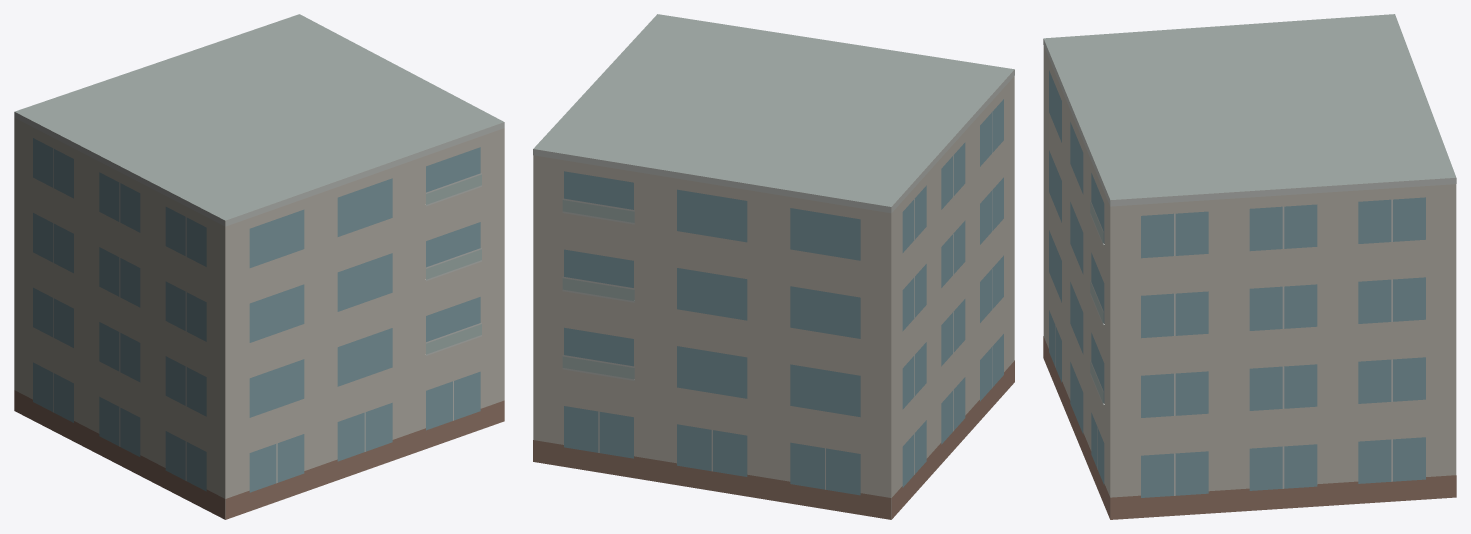
The model's file is survey-upis-32527058.glb.
The picture shows the model from 3 angles, left to right: view 1: azimuth 30°, elevation 25°; view 2: azimuth 150°, elevation 25°; view 3: azimuth 270°, elevation 25°; orthographic projection. The views are drawn at different scales.
Visible parts, largest first — view 1: survey-upis-32527058.tmp; view 2: survey-upis-32527058.tmp; view 3: survey-upis-32527058.tmp.
Part boxes in pixels (x1=…): survey-upis-32527058.tmp: x1=14, y1=14, x2=504, y2=519; survey-upis-32527058.tmp: x1=533, y1=14, x2=1014, y2=519; survey-upis-32527058.tmp: x1=1043, y1=14, x2=1456, y2=519.
Size of the model in its own units: 15.24 by 12.2 by 14.29.
